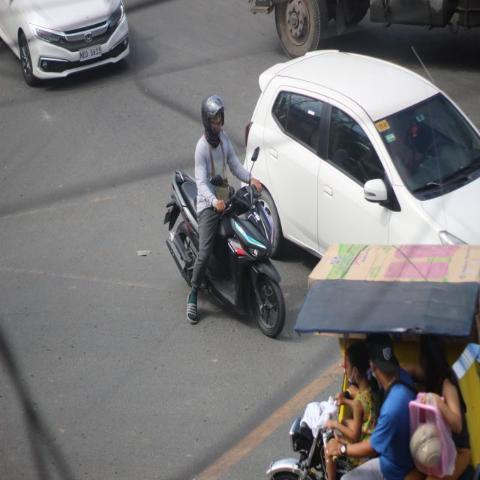car: (244, 49, 480, 249), (0, 0, 130, 87)
motorcycle: (162, 94, 286, 339)
